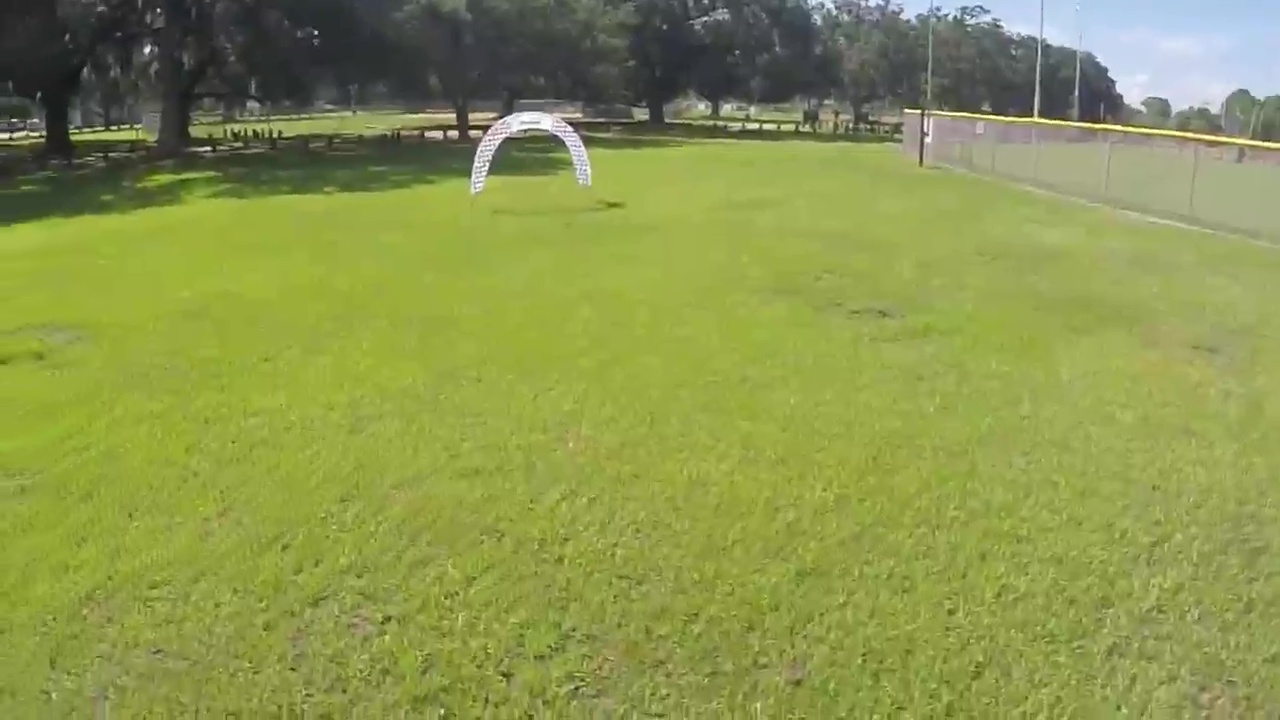gate: (467, 109, 593, 195)
